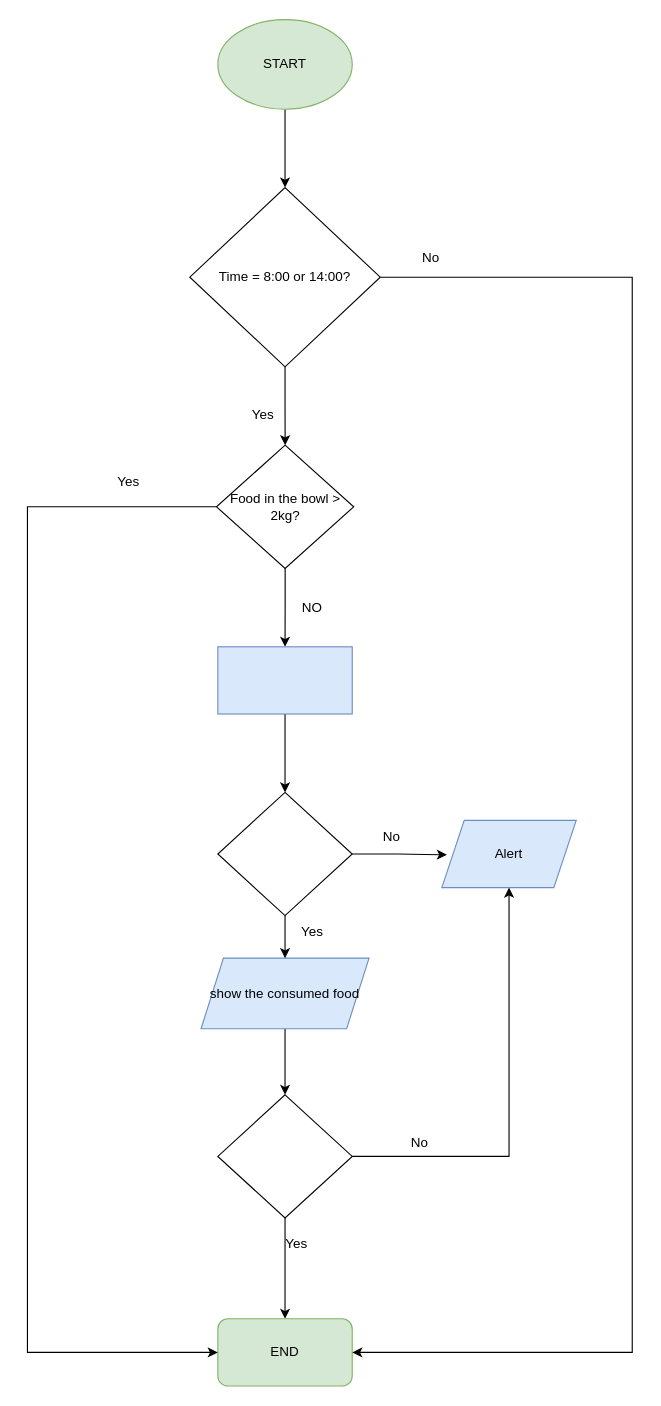
This 661x1406 diagram has some shape labels left out. Here are the shapes that lost their labels. From the top down, the centre of each, then its label:
At [284,680]: "Dispense food".
At [284,853]: "Food in the Feeder >2 kg?".
At [284,1156]: "change of food in the bowl > 1 kg in 30mins?".
